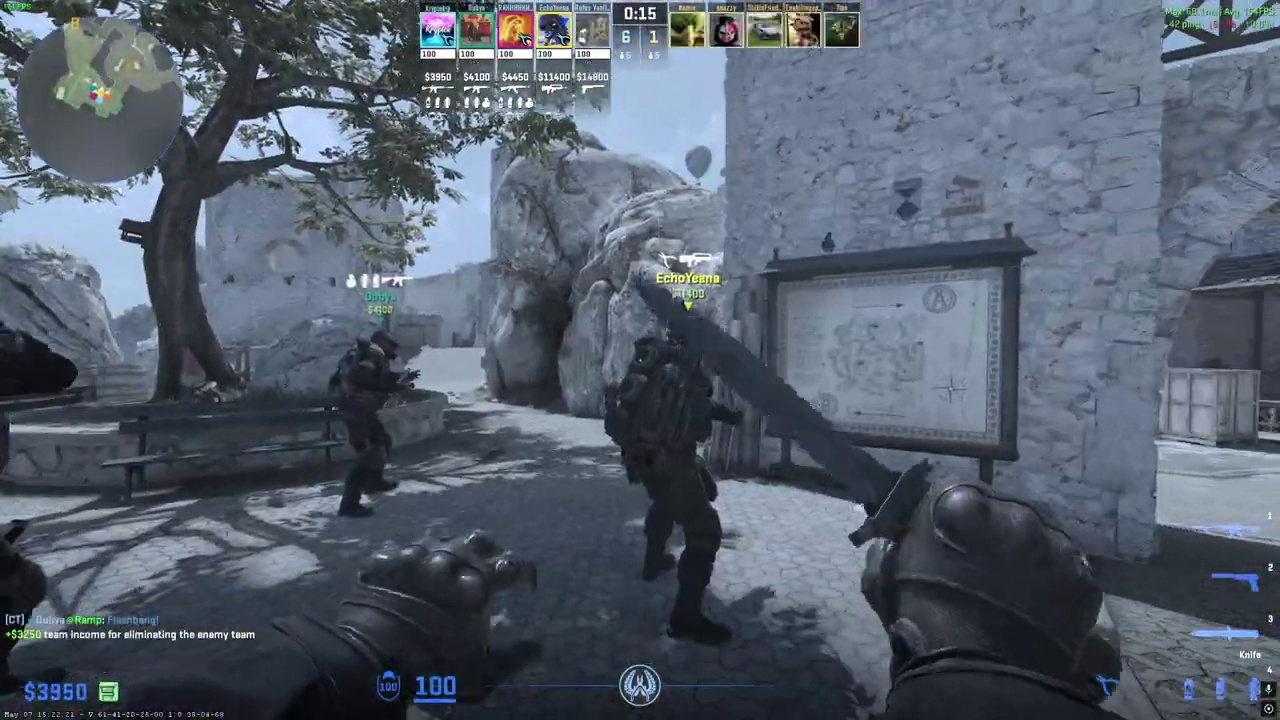CT: (614, 321, 743, 642), (328, 330, 412, 518)
